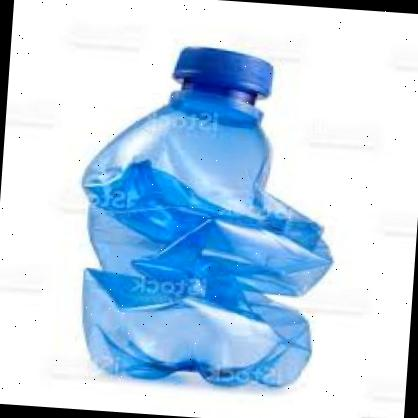bottle: (66, 25, 350, 396)
cap: (166, 41, 284, 103)
